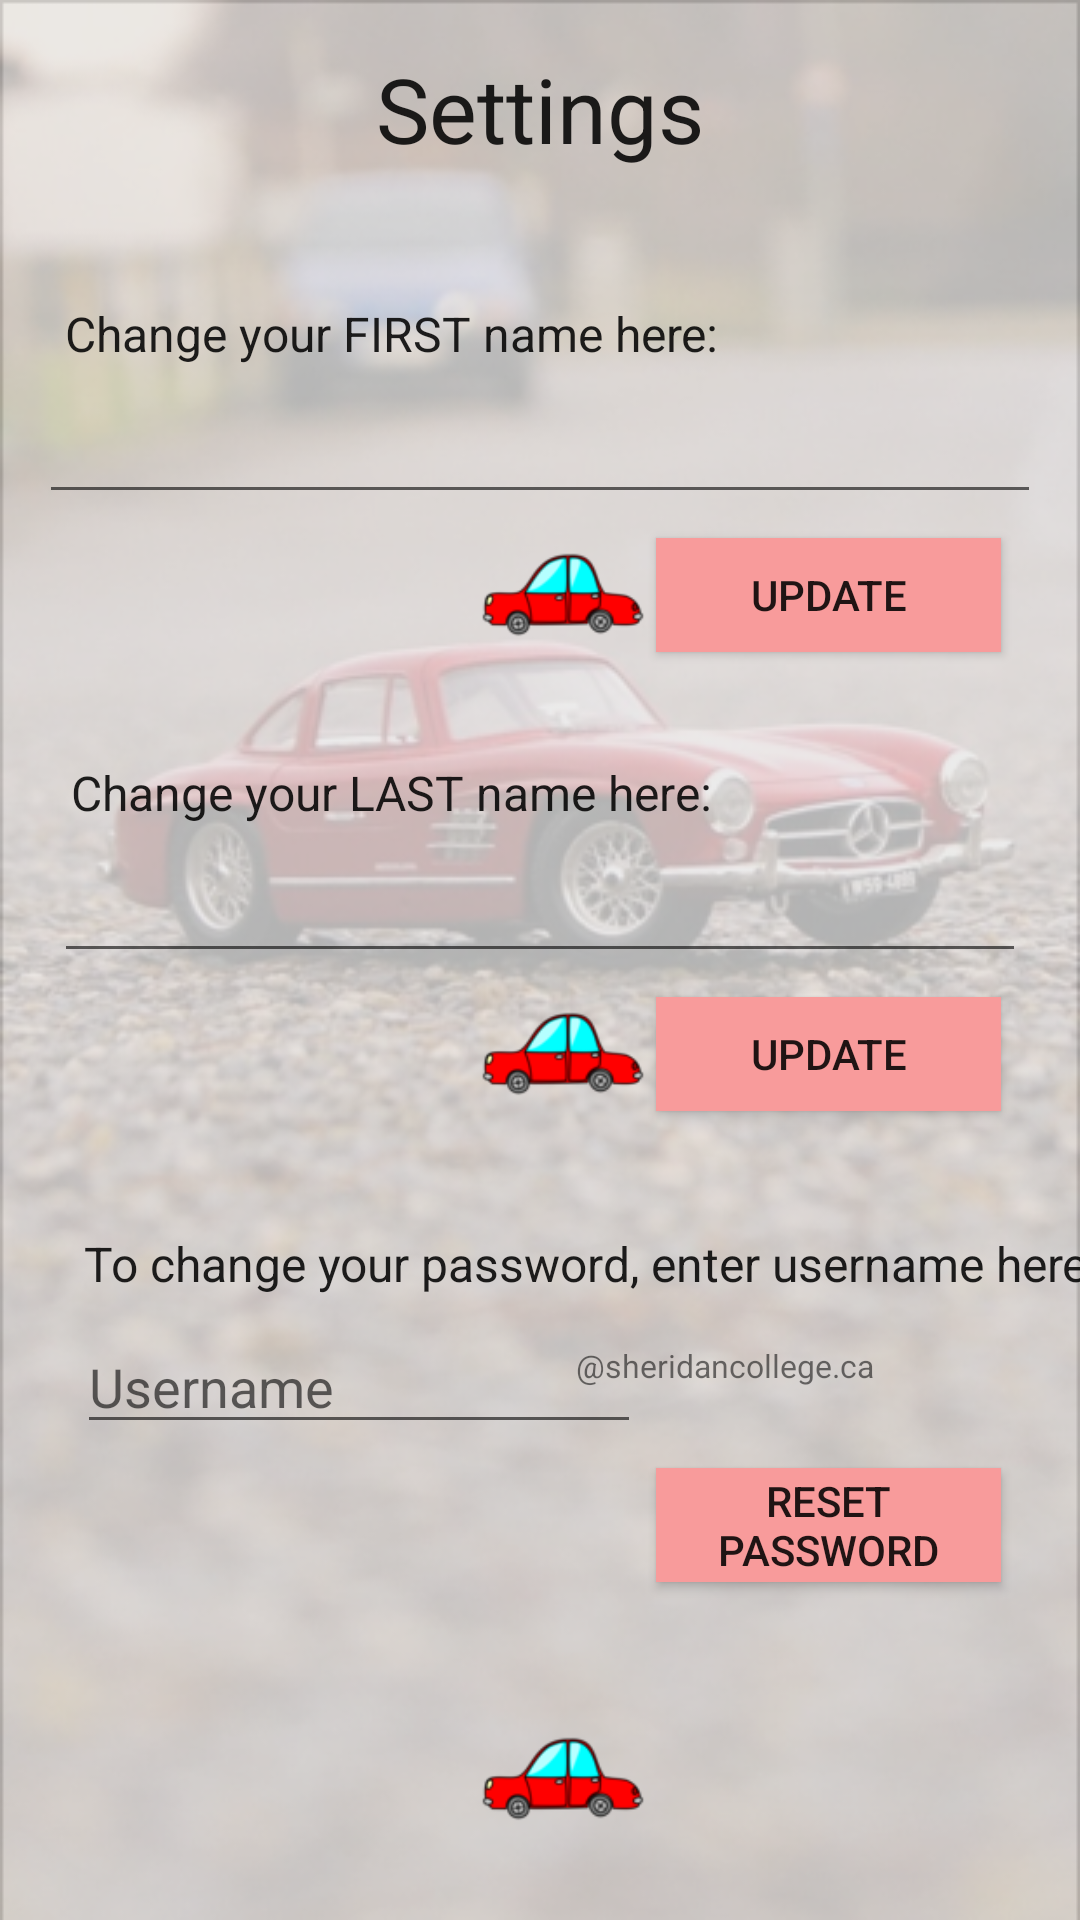

Screen size 1080 x 1920. Icon name, then its box in pixels as (x1, y1, x2, y2):
car: (482, 554, 644, 663), (482, 1013, 644, 1095), (482, 1738, 644, 1820)
